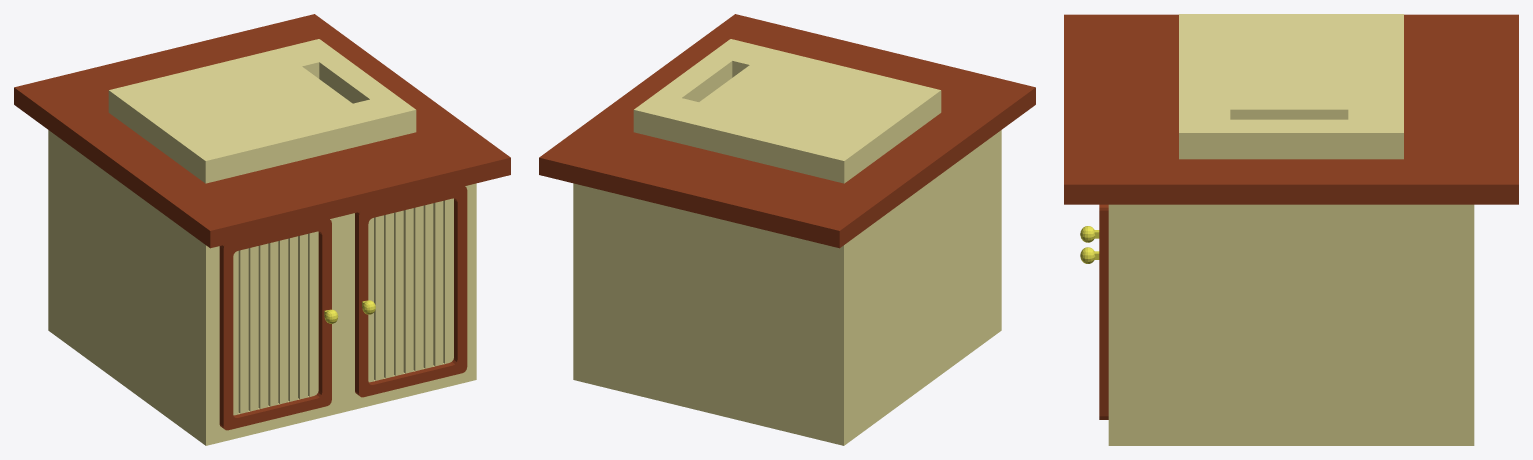
The model's file is Chopping table.fbx.
The picture shows the model from 3 angles, left to right: view 1: azimuth 30°, elevation 25°; view 2: azimuth 150°, elevation 25°; view 3: azimuth 270°, elevation 25°; orthographic projection. The views are drawn at different scales.
Visible parts, largest first — view 1: Chopping table; view 2: Chopping table; view 3: Chopping table.
Boxes of the visible parts, x1,y1,x2,y2 form: Chopping table: (14, 14, 510, 445); Chopping table: (539, 14, 1035, 445); Chopping table: (1064, 14, 1518, 445).
Bounding box in the file's own units: 225 × 182 × 254.
